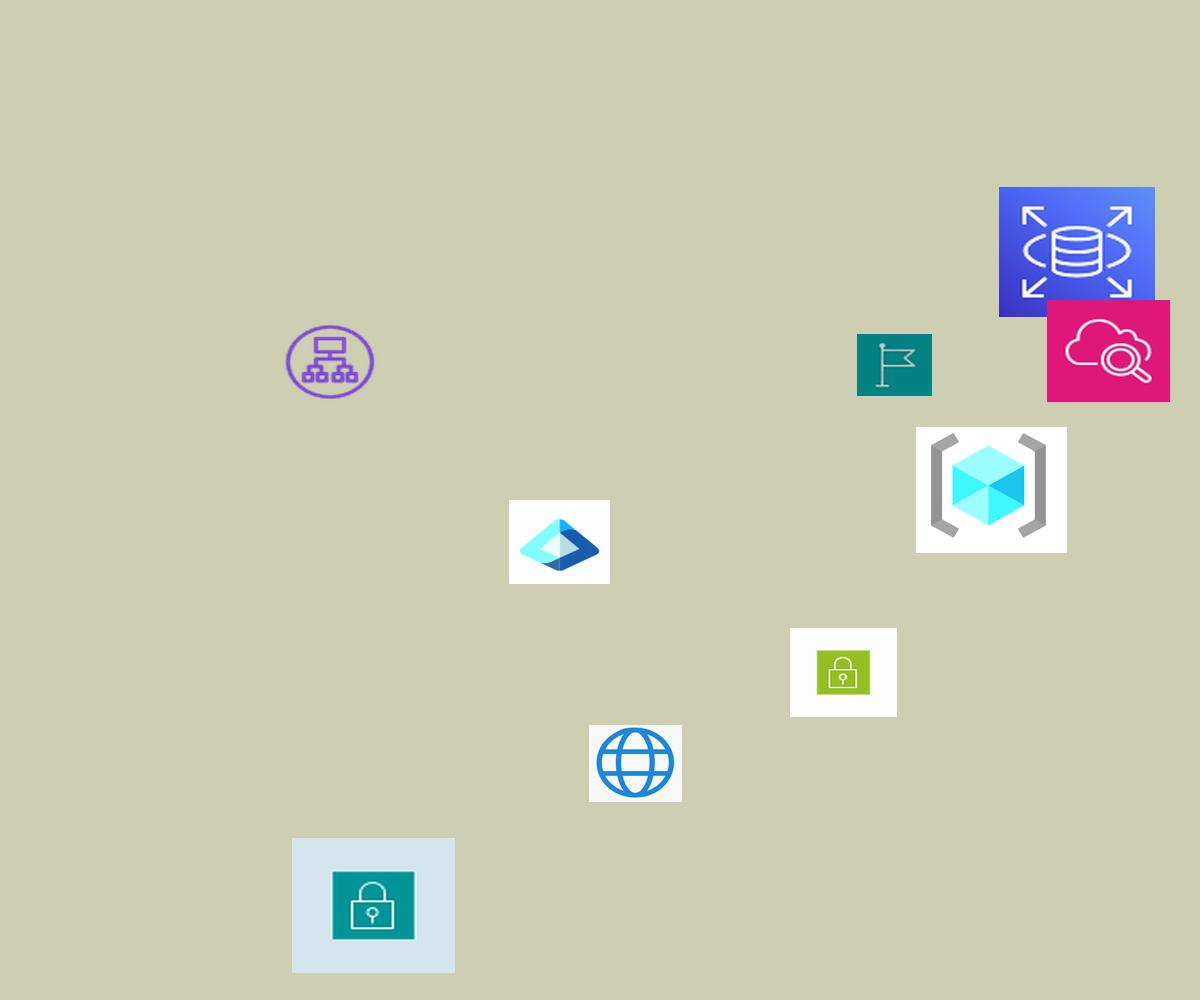AWS-CloudWatch: (1047, 300, 1170, 402)
AWS-Private-subnet: (292, 838, 455, 973)
AWS-Public-subnet: (790, 628, 897, 717)
AWS-RDS: (999, 187, 1155, 317)
AWS-Region: (857, 334, 932, 396)
AWS-Res_Elastic-Load-Balancing_Application-Load-Balancer: (282, 322, 378, 402)
Azure_http: (589, 725, 682, 802)
Azure_microsoft_entra: (509, 500, 610, 584)
Azure_resource_group: (916, 427, 1067, 553)
